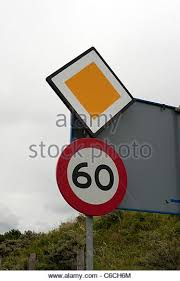Speed_limit_60km: (55, 138, 129, 216)
